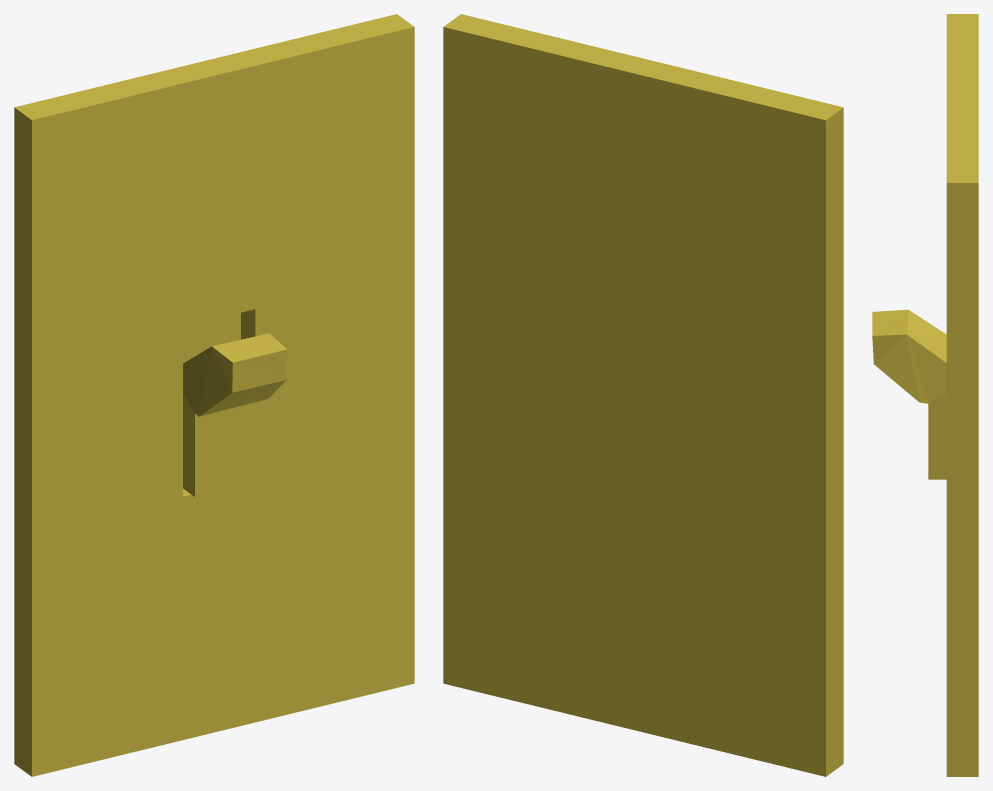
Rendered from switch.fbx.
The picture shows the model from 3 angles, left to right: view 1: azimuth 30°, elevation 25°; view 2: azimuth 150°, elevation 25°; view 3: azimuth 270°, elevation 25°; orthographic projection. The views are drawn at different scales.
Parts seen in each view (by area): view 1: Cube; view 2: Cube; view 3: Cube.
Boxes of the visible parts, x1,y1,x2,y2 form: Cube: (14,14,414,776); Cube: (443,14,843,776); Cube: (872,14,978,776).
Size of the model in its own units: 0.25 by 0.41 by 0.0665.
